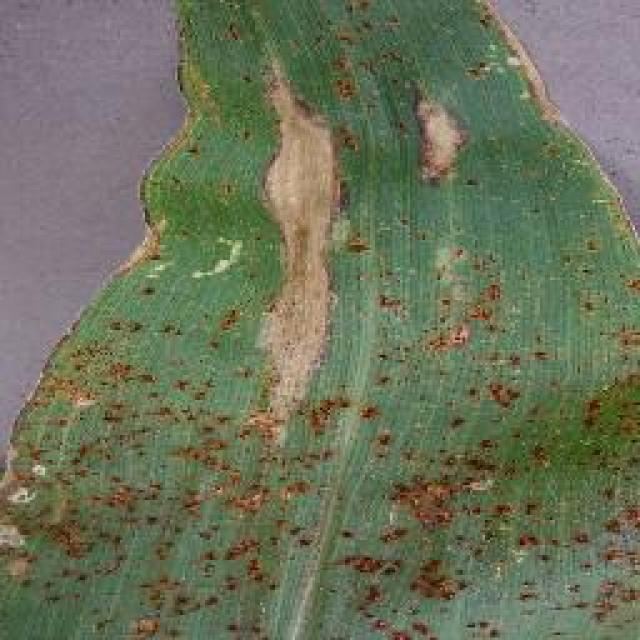Corn___Northern_Leaf_Blight: (5, 0, 640, 530)
